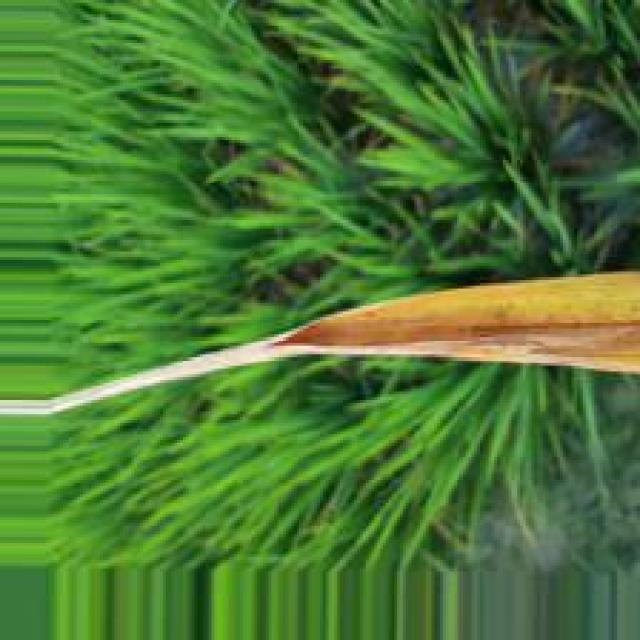Bacterial_Leaf_Blight: (275, 320, 639, 372), (309, 272, 638, 327)
